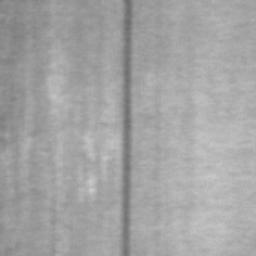Scratches: (121, 0, 133, 256)
